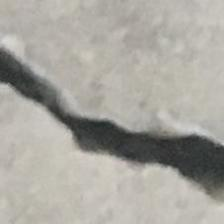Crack: (0, 32, 224, 205)
